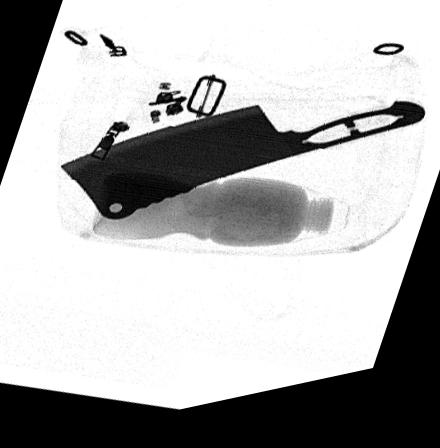Knife: (60, 115, 425, 226)
